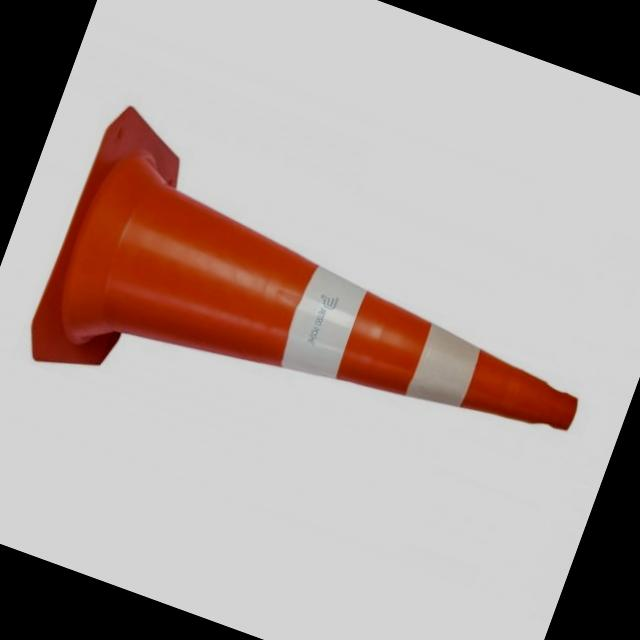cone: (11, 121, 628, 554)
